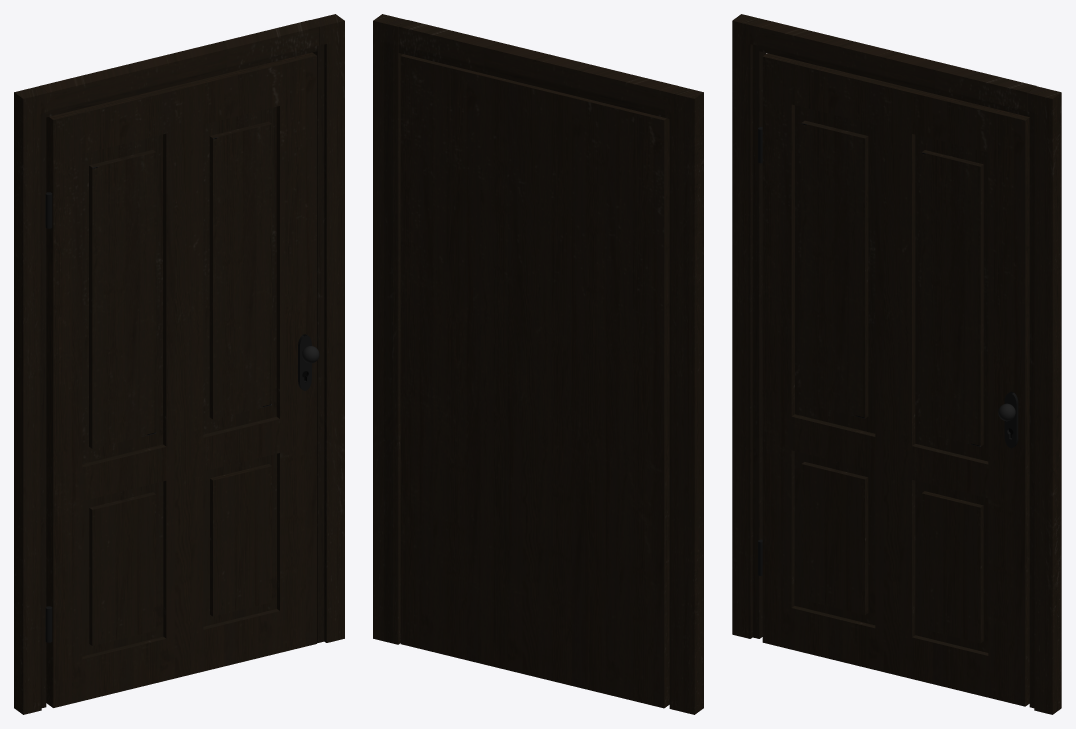
Rendered from door.fbx.
3 renders of one model, left to right at view 1: azimuth 30°, elevation 25°; view 2: azimuth 150°, elevation 25°; view 3: azimuth 330°, elevation 25°, orthographic.
Parts seen in each view (by area): view 1: pCube4, pCube12, pCube13, pCube11, polySurface2; view 2: pCube4, pCube12, pCube13, pCube11; view 3: pCube4, pCube13, pCube12, pCube11, polySurface2.
Boxes of the visible parts, x1,y1,x2,y2 form: pCube4: [46, 52, 316, 707]; pCube12: [14, 86, 48, 714]; pCube13: [311, 14, 344, 643]; pCube11: [39, 20, 319, 117]; polySurface2: [298, 334, 311, 390]; pCube4: [400, 54, 669, 708]; pCube12: [669, 86, 703, 714]; pCube13: [373, 14, 406, 644]; pCube11: [398, 20, 678, 118]; pCube4: [762, 53, 1029, 706]; pCube13: [1027, 86, 1061, 714]; pCube12: [732, 14, 766, 638]; pCube11: [757, 20, 1036, 116]; polySurface2: [1004, 391, 1018, 448].
Size of the model in its own units: 11.2 by 20.58 by 1.18.
Materials: 1 (1 with a texture image).
